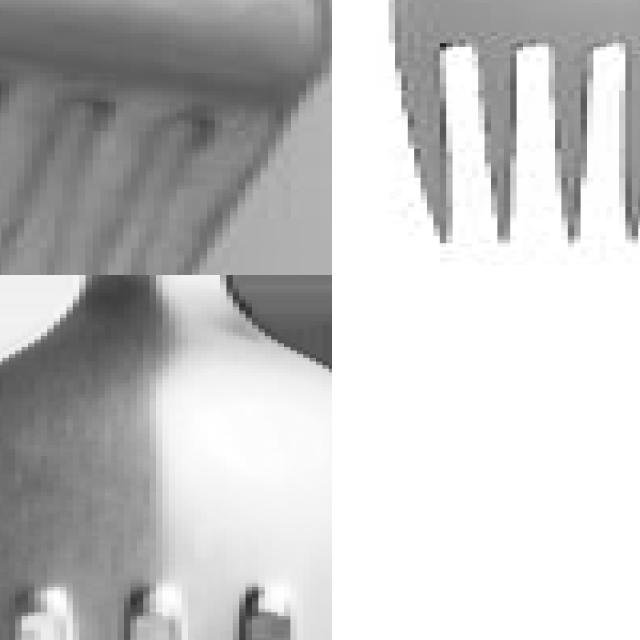forks: (0, 275, 332, 640), (0, 0, 332, 275)
